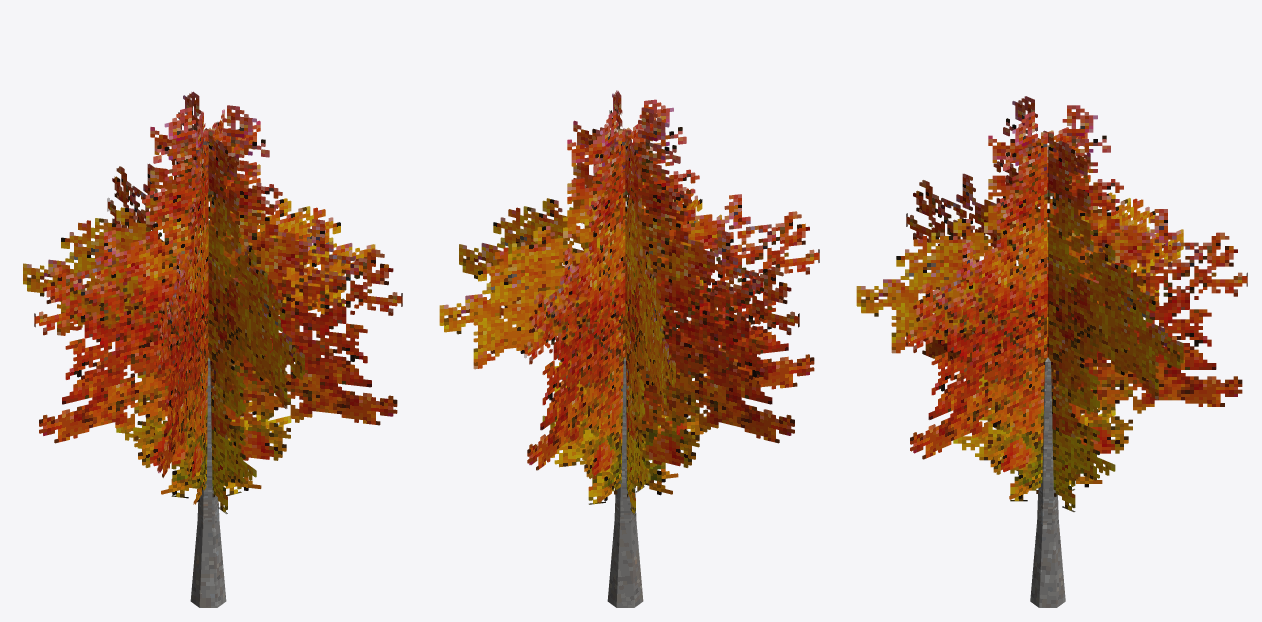
The model's file is tree30.glb.
3 views of the same model, side by side, from view 1: azimuth 30°, elevation 25°; view 2: azimuth 150°, elevation 25°; view 3: azimuth 270°, elevation 25° (orthographic).
Visible parts, largest first — view 1: tree30; view 2: tree30; view 3: tree30.
Boxes of the visible parts, box(x1,y1,x2,y2) form: tree30: box(23, 91, 402, 607); tree30: box(439, 90, 819, 607); tree30: box(856, 96, 1247, 607).
Bounding box in the file's own units: 5.76 × 8 × 5.76.
Materials: 1 (1 with a texture image).
